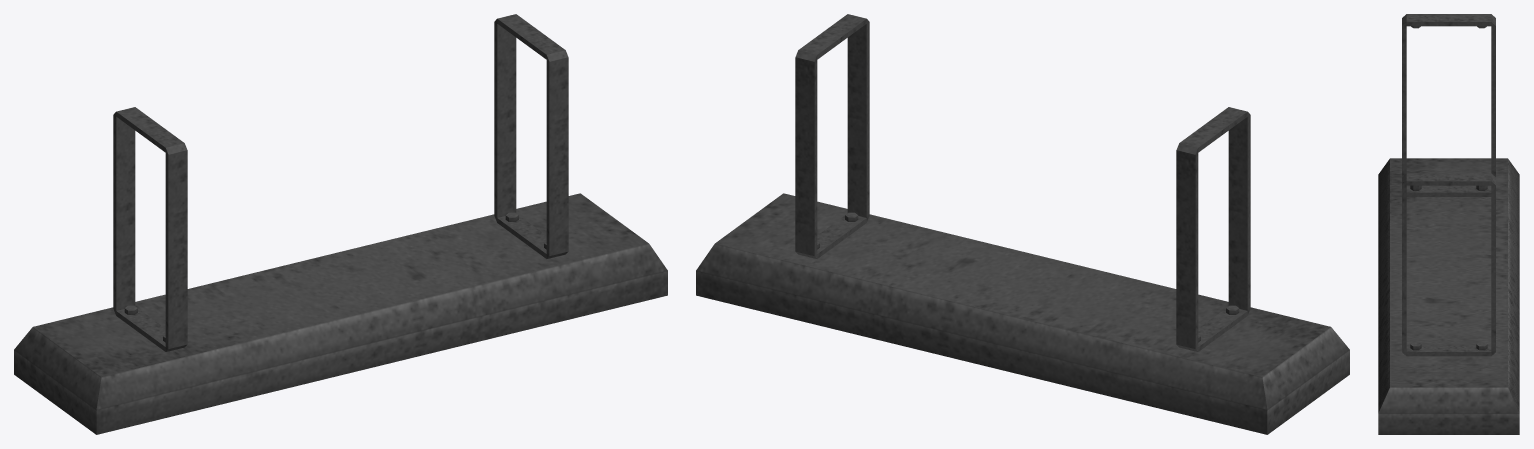
Rendered from ceiling_lamp_4_b_on.obj.
3 renders of one model, left to right at view 1: azimuth 30°, elevation 25°; view 2: azimuth 150°, elevation 25°; view 3: azimuth 270°, elevation 25°, orthographic. The views are drawn at different scales.
Visible parts, largest first — view 1: ceiling_lamp_4_b_on; view 2: ceiling_lamp_4_b_on; view 3: ceiling_lamp_4_b_on.
Part boxes in pixels (x1,y1,x2,y2): ceiling_lamp_4_b_on: (14,14,667,434); ceiling_lamp_4_b_on: (696,14,1349,434); ceiling_lamp_4_b_on: (1378,14,1519,434).
Bounding box in the file's own units: 1.2 × 0.51 × 0.3.
